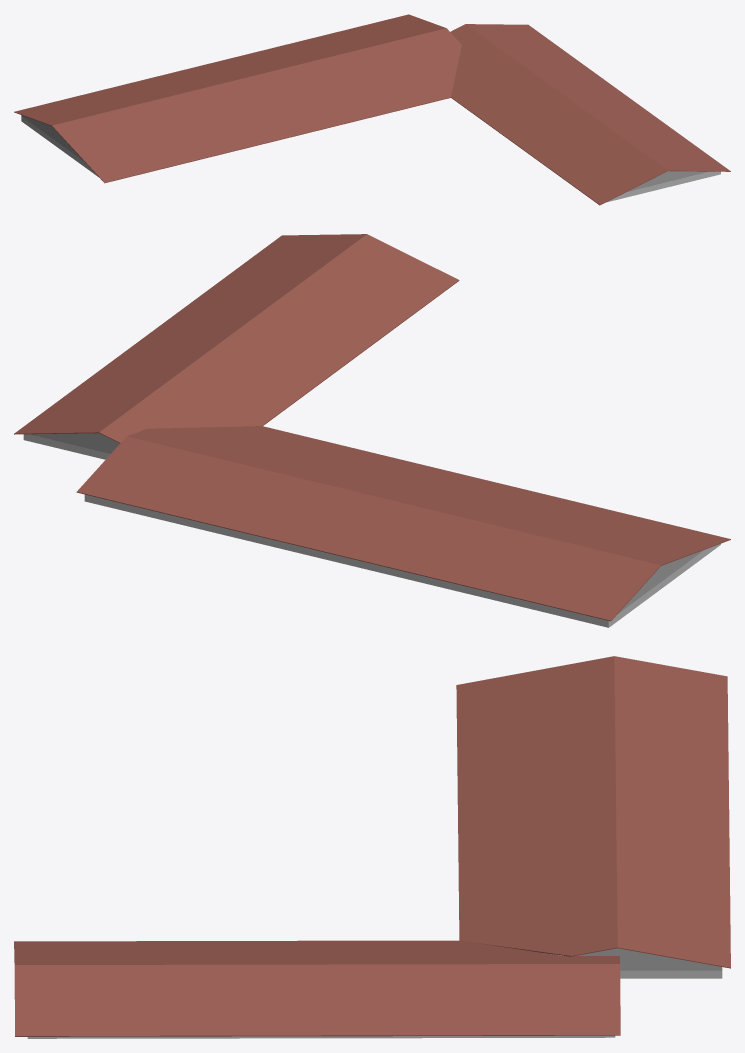
Rendered from floor2.glb.
3 views of the same model, one above another, from view 1: azimuth 30°, elevation 25°; view 2: azimuth 150°, elevation 25°; view 3: azimuth 270°, elevation 25° (orthographic). The views are drawn at different scales.
Parts seen in each view (by area): view 1: IfcBuildingElementProxy/Cobert.-008.004, IfcSlab/L10.002, IfcWallStandardCase/Parede-036.012; view 2: IfcBuildingElementProxy/Cobert.-008.004, IfcSlab/L10.002, IfcWallStandardCase/Parede-036.012; view 3: IfcBuildingElementProxy/Cobert.-008.004, IfcSlab/L10.002, IfcWallStandardCase/Parede-036.012.
Boxes of the visible parts, x1=… form: IfcBuildingElementProxy/Cobert.-008.004: x1=14, y1=14, x2=730, y2=205; IfcSlab/L10.002: x1=21, y1=116, x2=720, y2=202; IfcWallStandardCase/Parede-036.012: x1=21, y1=115, x2=708, y2=192; IfcBuildingElementProxy/Cobert.-008.004: x1=14, y1=234, x2=730, y2=621; IfcSlab/L10.002: x1=23, y1=434, x2=720, y2=627; IfcWallStandardCase/Parede-036.012: x1=30, y1=433, x2=703, y2=613; IfcBuildingElementProxy/Cobert.-008.004: x1=14, y1=656, x2=730, y2=1036; IfcSlab/L10.002: x1=27, y1=954, x2=722, y2=1038; IfcWallStandardCase/Parede-036.012: x1=576, y1=948, x2=722, y2=970.
Bounding box in the file's own units: 47.9 × 2.11 × 41.02.
